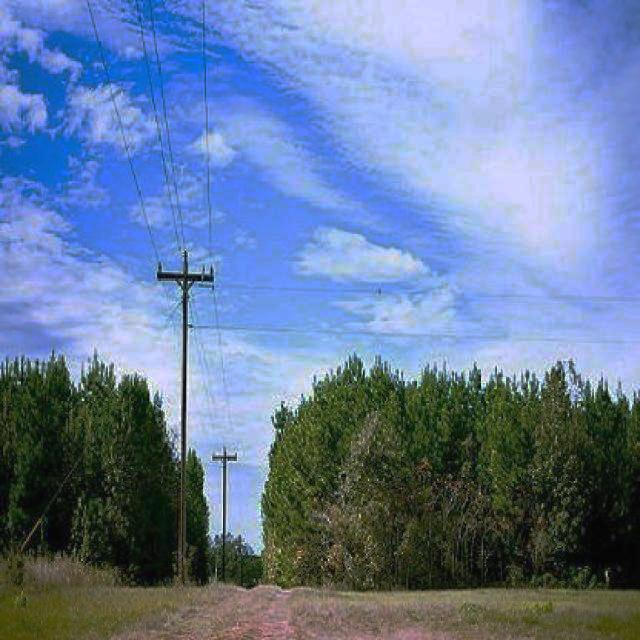poles: (156, 250, 214, 582)
wires: (88, 13, 244, 241)
